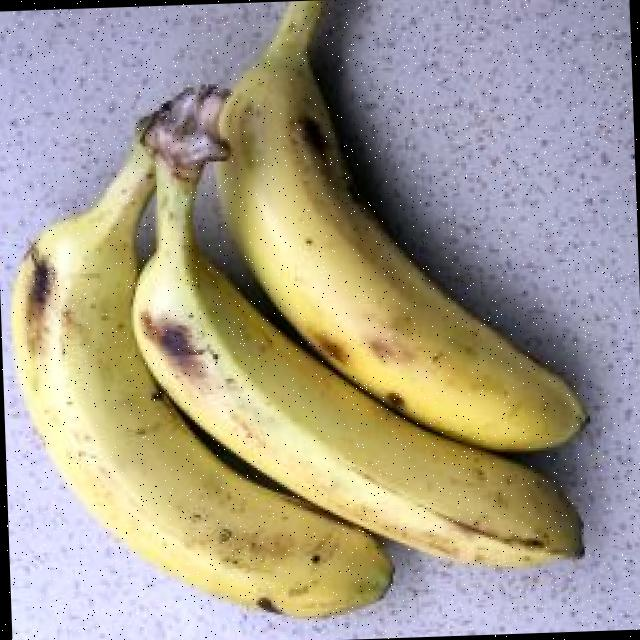banana: (127, 156, 580, 567), (6, 139, 392, 621), (215, 0, 584, 452)
